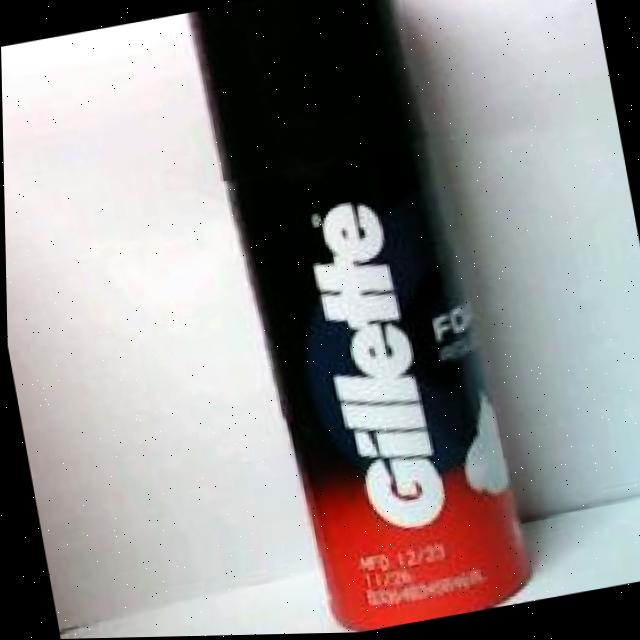gillette-foam: (185, 0, 530, 633)
